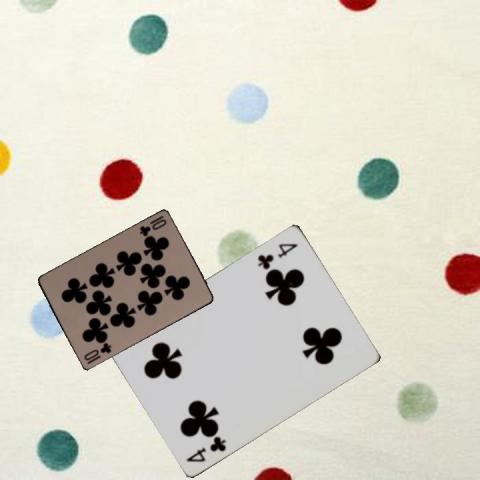10c: (80, 340, 112, 366), (137, 213, 168, 238)
4c: (254, 239, 299, 270), (184, 433, 228, 463)
